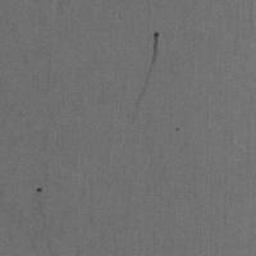Inclusion: (151, 31, 160, 65), (135, 87, 146, 108)
